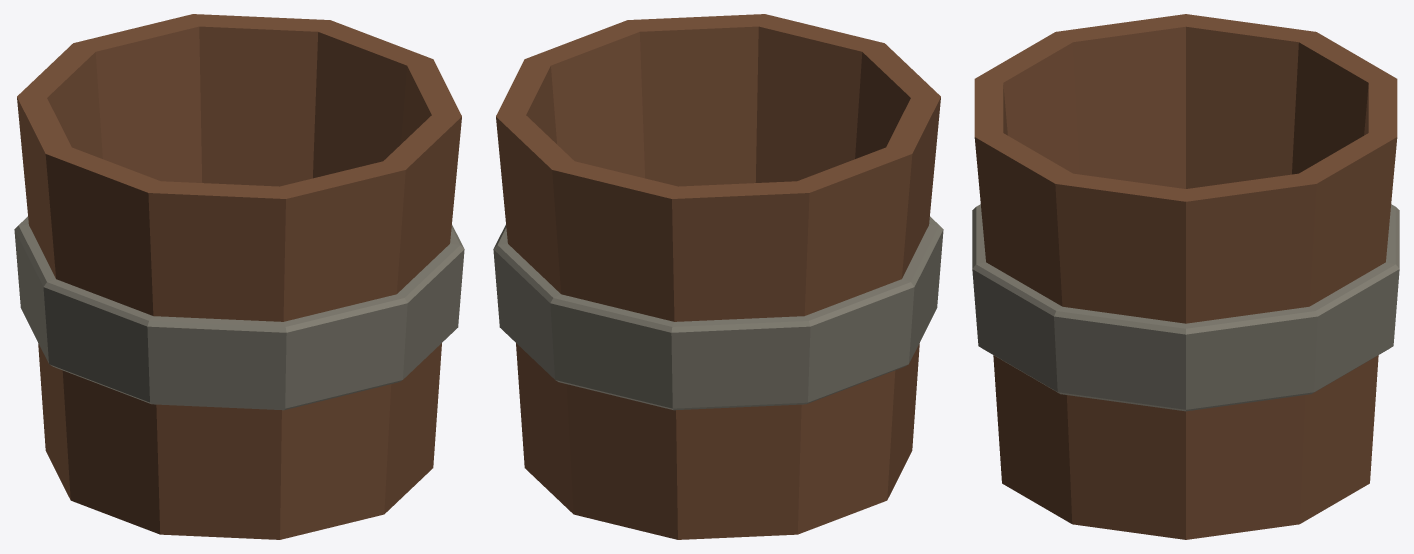
The model's file is TallBrownBucket.fbx.
The picture shows the model from 3 angles, left to right: view 1: azimuth 30°, elevation 25°; view 2: azimuth 150°, elevation 25°; view 3: azimuth 270°, elevation 25°; orthographic projection.
Parts seen in each view (by area): view 1: TallBrownBucket; view 2: TallBrownBucket; view 3: TallBrownBucket.
Part boxes in pixels (bbox=[...]): TallBrownBucket: bbox=[14, 14, 464, 539]; TallBrownBucket: bbox=[493, 14, 943, 539]; TallBrownBucket: bbox=[972, 14, 1399, 539].
Size of the model in its own units: 2.02 by 1.74 by 1.92.
